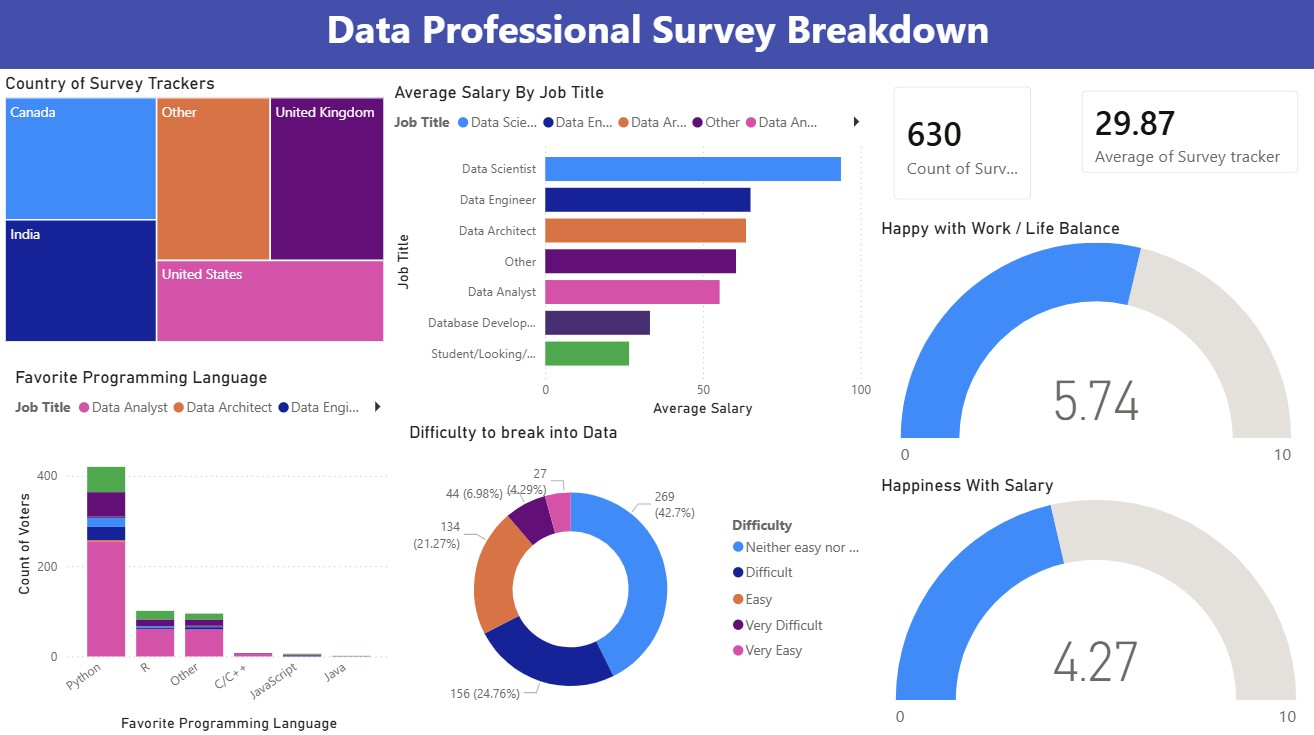

What the dashboard file says about the page in this screenshot:
{"tool":"powerbi","page":{"name":"Page 1","canvas":[1280,720],"ordinal":0},"visuals":[{"type":"textbox","box":[9.7,0,1270.3,70],"z":0},{"type":"cardVisual","fields":{"Data":["CountNonNull(Data Professional Survey.Unique ID)"]},"box":[852,70,168.3,144.9],"z":1000},{"type":"cardVisual","fields":{"Data":["Avg(Data Professional Survey.Q10 - Current Age)"]},"box":[1034.9,73.9,245.1,114.8],"z":2000},{"type":"barChart","title":"Average Salary By Job Title","fields":{"Category":["Data Professional Survey.Q1 - Which Title Best Fits your Current Role?.1"],"Y":["Avg(Data Professional Survey.Average Salary Column)"],"Series":["Data Professional Survey.Q1 - Which Title Best Fits your Current Role?.1"]},"box":[378.4,82.7,473.7,330.7],"z":3000},{"type":"columnChart","title":"Favorite Programming Language","fields":{"Category":["Data Professional Survey.Q5 - Favorite Programming Language.1"],"Y":["CountNonNull(Data Professional Survey.Unique ID)"],"Series":["Data Professional Survey.Q1 - Which Title Best Fits your Current Role?.1"]},"box":[9.7,359.9,375.4,359.9],"z":4000},{"type":"treemap","title":"Country of Survey Trackers","fields":{"Group":["Data Professional Survey.Q11 - Which Country do you live in?.1"],"Values":["Count(Data Professional Survey.Q11 - Which Country do you live in?.1)"]},"box":[0,73.9,378.4,266.5],"z":5000},{"type":"gauge","title":"Happy with Work / Life Balance","fields":{"Y":["Avg(Data Professional Survey.Q6 - How Happy are you in your Current Position with the following? (Work/Life Balance))"],"MinValue":["Min(Data Professional Survey.Q6 - How Happy are you in your Current Position with the following? (Work/Life Balance))1"],"MaxValue":["Max(Data Professional Survey.Q6 - How Happy are you in your Current Position with the following? (Work/Life Balance))2"]},"box":[852,215,428,250],"z":6000},{"type":"gauge","title":"Happiness With Salary","fields":{"Y":["Avg(Data Professional Survey.Q6 - How Happy are you in your Current Position with the following? (Salary))"],"MinValue":["Min(Data Professional Survey.Q6 - How Happy are you in your Current Position with the following? (Salary))"],"MaxValue":["Max(Data Professional Survey.Q6 - How Happy are you in your Current Position with the following? (Salary))"]},"box":[852,464.9,428,254.8],"z":7000},{"type":"donutChart","title":"Difficulty to break into Data","fields":{"Category":["Data Professional Survey.Q7 - How difficult was it for you to break into Data?"],"Y":["CountNonNull(Data Professional Survey.Q7 - How difficult was it for you to break into Data?)"]},"box":[392.9,413.4,459.1,306.4],"z":8000}]}

Visuals, with their boxes in screenshot pixels (x1, y1, x2, y2), scaled from the page's 1280x720 canvas onto the 1314x735 screenshot:
textbox: box(10, 0, 1313, 71)
cardVisual - CountNonNull(Data Professional Survey.Unique ID): box(875, 71, 1047, 219)
cardVisual - Avg(Data Professional Survey.Q10 - Current Age): box(1062, 75, 1313, 193)
"Average Salary By Job Title" barChart: box(388, 84, 875, 422)
"Favorite Programming Language" columnChart: box(10, 367, 395, 734)
"Country of Survey Trackers" treemap: box(0, 75, 388, 347)
"Happy with Work / Life Balance" gauge: box(875, 219, 1313, 475)
"Happiness With Salary" gauge: box(875, 475, 1313, 734)
"Difficulty to break into Data" donutChart: box(403, 422, 875, 734)
